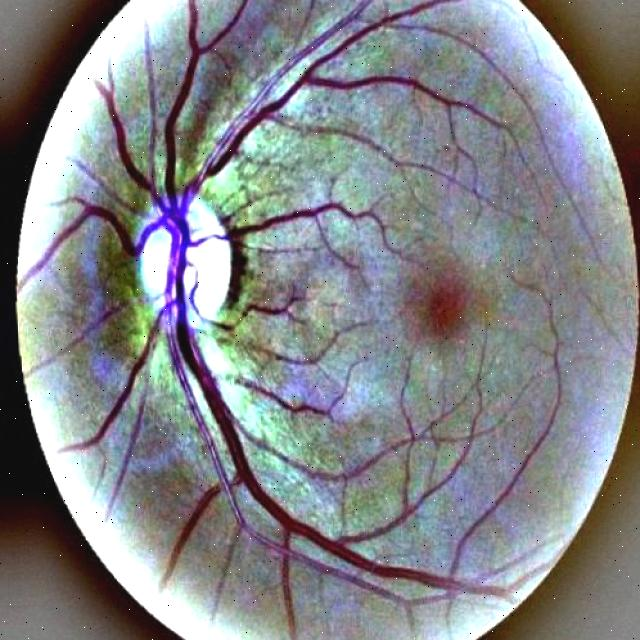Macula: (396, 269, 475, 352)
Nerves: (10, 4, 524, 311), (158, 247, 487, 629)
Optic Disk: (122, 181, 265, 340)
